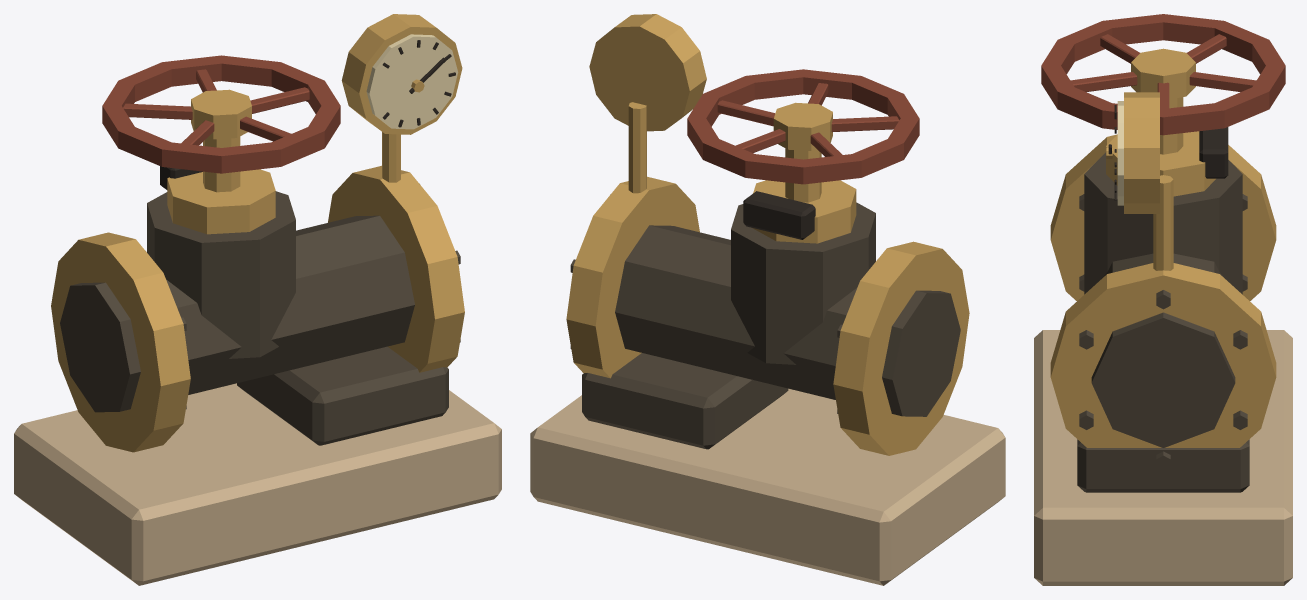
File: valve_station_02.glb
The picture shows the model from 3 angles, left to right: view 1: azimuth 30°, elevation 25°; view 2: azimuth 150°, elevation 25°; view 3: azimuth 270°, elevation 25°; orthographic projection. The views are drawn at different scales.
Visible parts, largest first — view 1: Plinth, Main_body, Pipe_flange_Flange, Valve_bell, Pump_foot, Wheel_rim, Pipe_flange_Flange_001, Pressure_Cream_face, Valve_collar, Pressure_Housing, Wheel, Wheel_hub (+2 smaller); view 2: Plinth, Main_body, Pipe_flange_Flange, Valve_bell, Pump_foot, Wheel_rim, Pipe_flange_Flange_001, Pressure_Housing, Wheel, Valve_collar, Mechanical_stop, Wheel_hub (+2 smaller); view 3: Plinth, Pipe_flange_Flange_001, Main_body, Wheel_rim, Valve_bell, Pump_foot, Pipe_flange_Flange, Pressure_Housing, Wheel, Valve_collar, Wheel_hub, Gauge_stem (+4 smaller).
Part boxes in pixels (box(x1,y1,x2,y2)): Plinth: box(14, 383, 501, 585); Main_body: box(60, 215, 414, 412); Pipe_flange_Flange: box(51, 232, 190, 452); Valve_bell: box(147, 191, 295, 358); Pump_foot: box(237, 346, 448, 445); Wheel_rim: box(102, 55, 340, 173); Pipe_flange_Flange_001: box(328, 165, 464, 372); Pressure_Cream_face: box(366, 34, 458, 129); Valve_collar: box(167, 169, 275, 234); Pressure_Housing: box(341, 14, 462, 134); Wheel: box(123, 69, 309, 145); Wheel_hub: box(191, 89, 251, 139); Plinth: box(530, 388, 1005, 585); Main_body: box(615, 225, 960, 416); Pipe_flange_Flange: box(833, 241, 969, 455); Valve_bell: box(731, 202, 875, 364); Pump_foot: box(582, 353, 788, 449); Wheel_rim: box(687, 69, 919, 184); Pipe_flange_Flange_001: box(566, 176, 699, 378); Pressure_Housing: box(589, 14, 706, 131); Wheel: box(717, 83, 899, 156); Valve_collar: box(752, 180, 856, 243); Mechanical_stop: box(743, 191, 815, 239); Wheel_hub: box(773, 102, 832, 150); Plinth: box(1034, 330, 1292, 585); Pipe_flange_Flange_001: box(1050, 263, 1276, 447); Main_body: box(1091, 253, 1235, 447); Wheel_rim: box(1041, 14, 1285, 135); Valve_bell: box(1084, 152, 1242, 294); Pump_foot: box(1077, 439, 1249, 492); Pipe_flange_Flange: box(1050, 134, 1276, 300); Pressure_Housing: box(1124, 92, 1159, 213); Wheel: box(1070, 34, 1256, 108); Valve_collar: box(1106, 131, 1215, 196); Wheel_hub: box(1131, 48, 1195, 99); Gauge_stem: box(1153, 175, 1173, 270).
Bounding box in the file's own units: 1.22 × 1.43 × 0.72.
